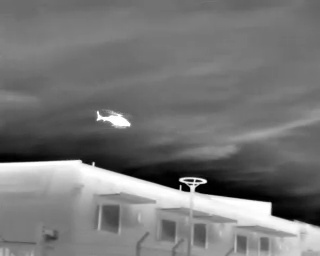HELICOPTER: (93, 104, 137, 134)
